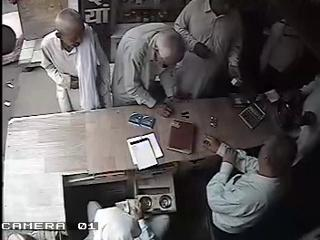Normal: (202, 133, 297, 239), (40, 8, 112, 113), (111, 22, 186, 118), (173, 0, 244, 100)
